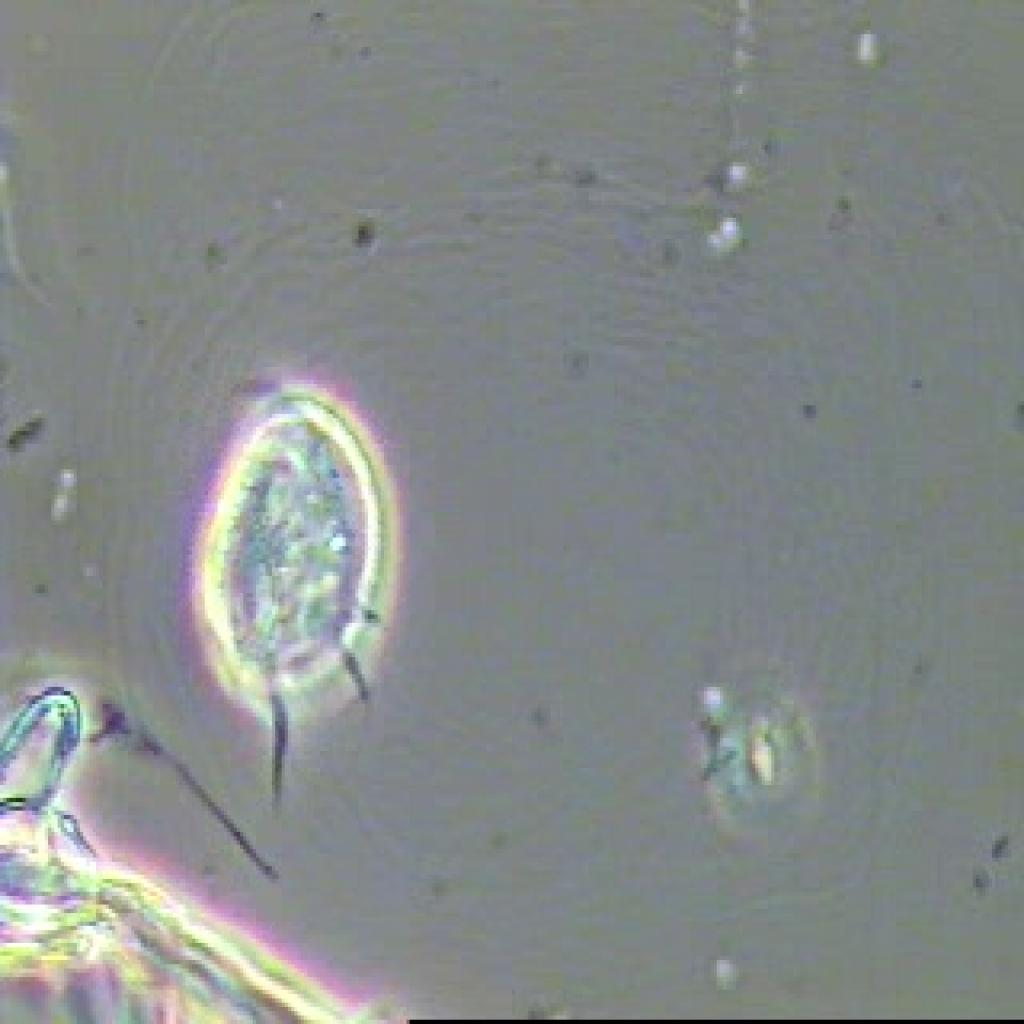Aspidisca: (186, 352, 412, 791)
